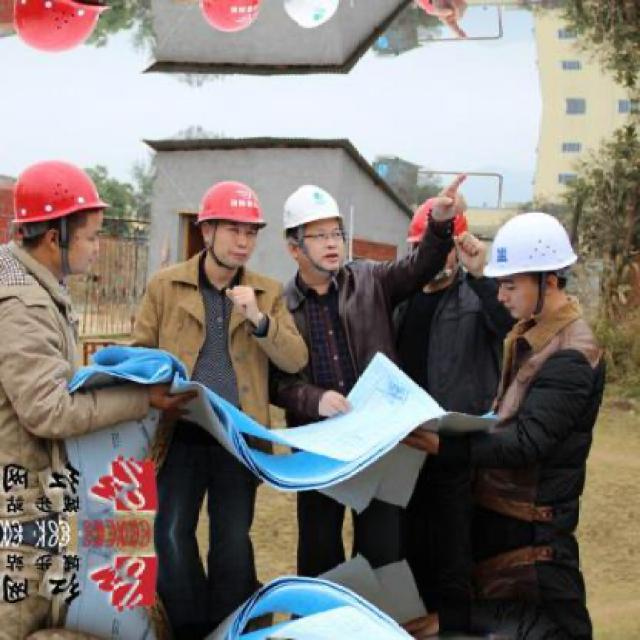helmet: (9, 156, 109, 280), (488, 207, 580, 321), (188, 174, 268, 268), (280, 184, 352, 279), (9, 0, 111, 59), (403, 197, 469, 281), (186, 0, 268, 40), (280, 0, 354, 31), (403, 0, 471, 17)
